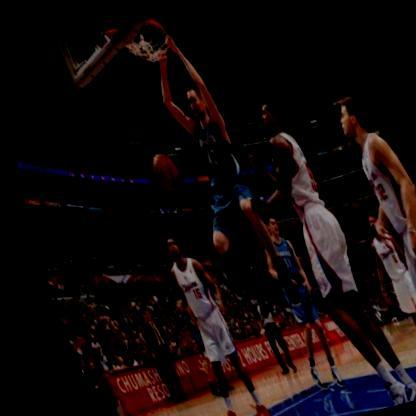basketball: (143, 146, 183, 195)
